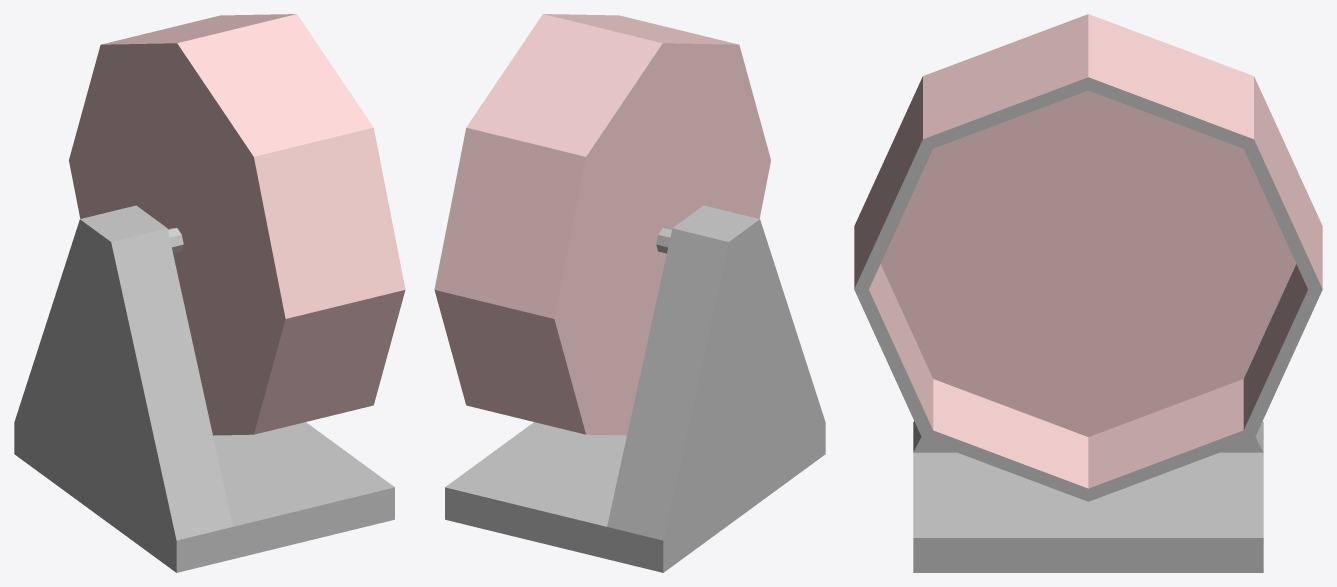
The model's file is Wheel3.fbx.
The picture shows the model from 3 angles, left to right: view 1: azimuth 30°, elevation 25°; view 2: azimuth 150°, elevation 25°; view 3: azimuth 270°, elevation 25°; orthographic projection. The views are drawn at different scales.
Visible parts, largest first — view 1: pCylinder194; view 2: pCylinder194; view 3: pCylinder194.
Boxes of the visible parts, <box> form: pCylinder194: <box>14,14,405,572</box>; pCylinder194: <box>434,14,825,572</box>; pCylinder194: <box>854,14,1322,572</box>.
Bounding box in the file's own units: 21.79 × 42.94 × 37.45.
